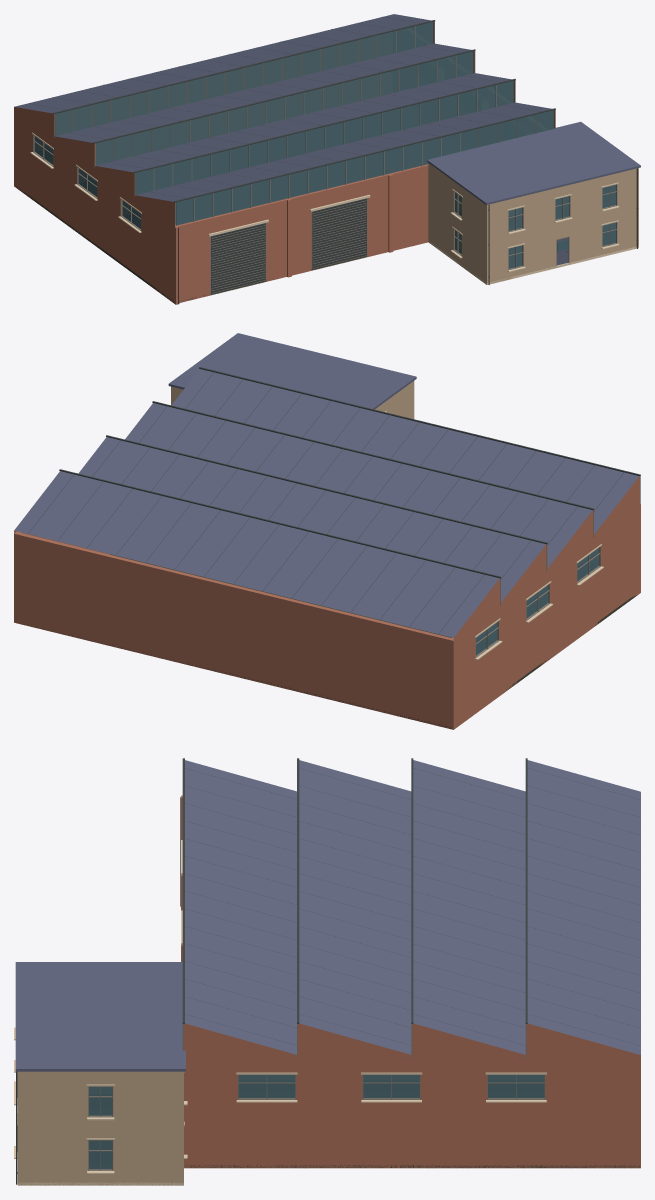
The model's file is factory-with-office.glb.
3 renders of one model, top to bottom at view 1: azimuth 30°, elevation 25°; view 2: azimuth 150°, elevation 25°; view 3: azimuth 270°, elevation 25°, orthographic. The views are drawn at different scales.
Parts seen in each view (by area): view 1: factory-with-office; view 2: factory-with-office; view 3: factory-with-office.
Part boxes in pixels (<box>): factory-with-office: <box>14,14,640,304</box>; factory-with-office: <box>14,333,640,729</box>; factory-with-office: <box>14,758,640,1185</box>.
Bounding box in the file's own units: 32.35 × 7.76 × 30.17.
